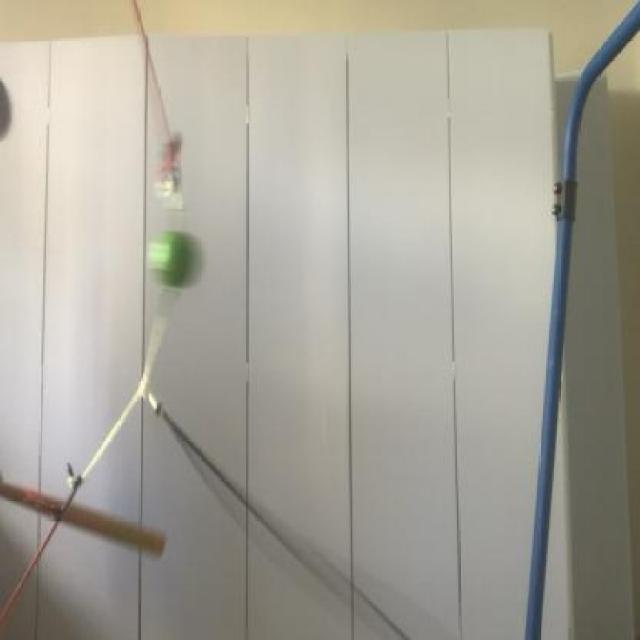baseball: (143, 224, 211, 290)
